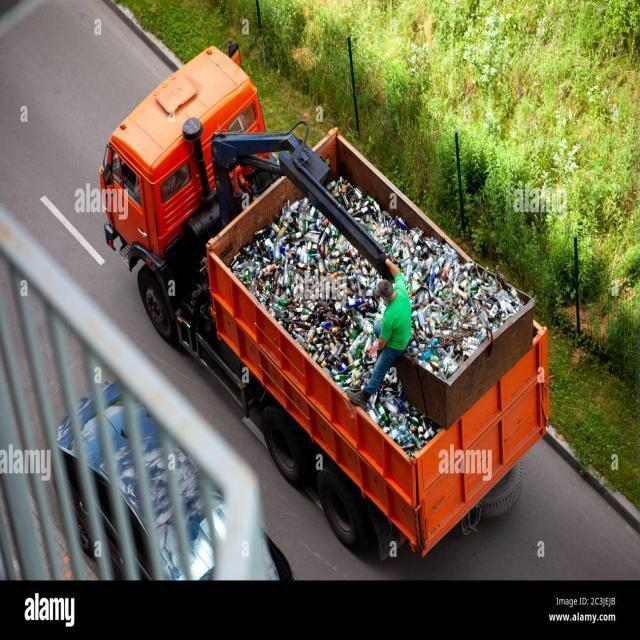uncovered: (215, 106, 556, 453)
